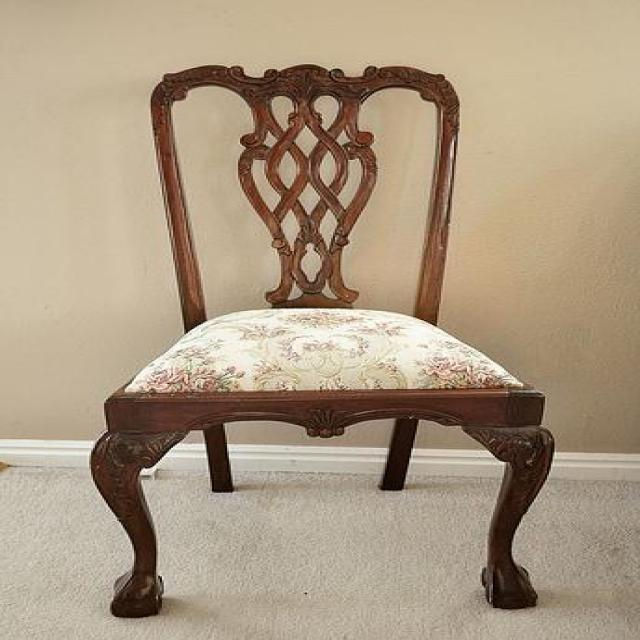chair: (86, 64, 557, 626)
